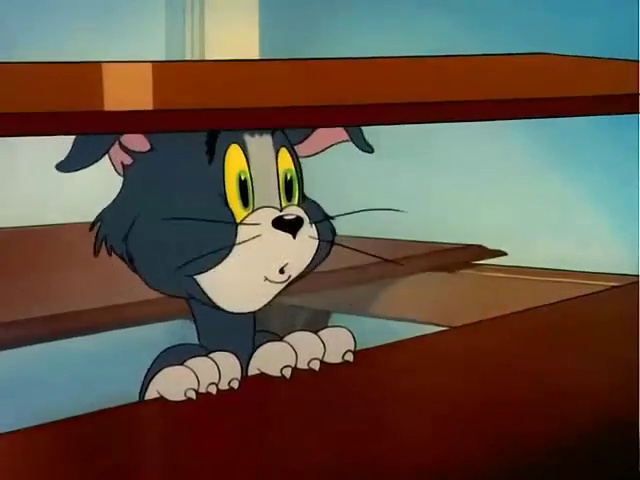tom: (70, 87, 390, 396)
